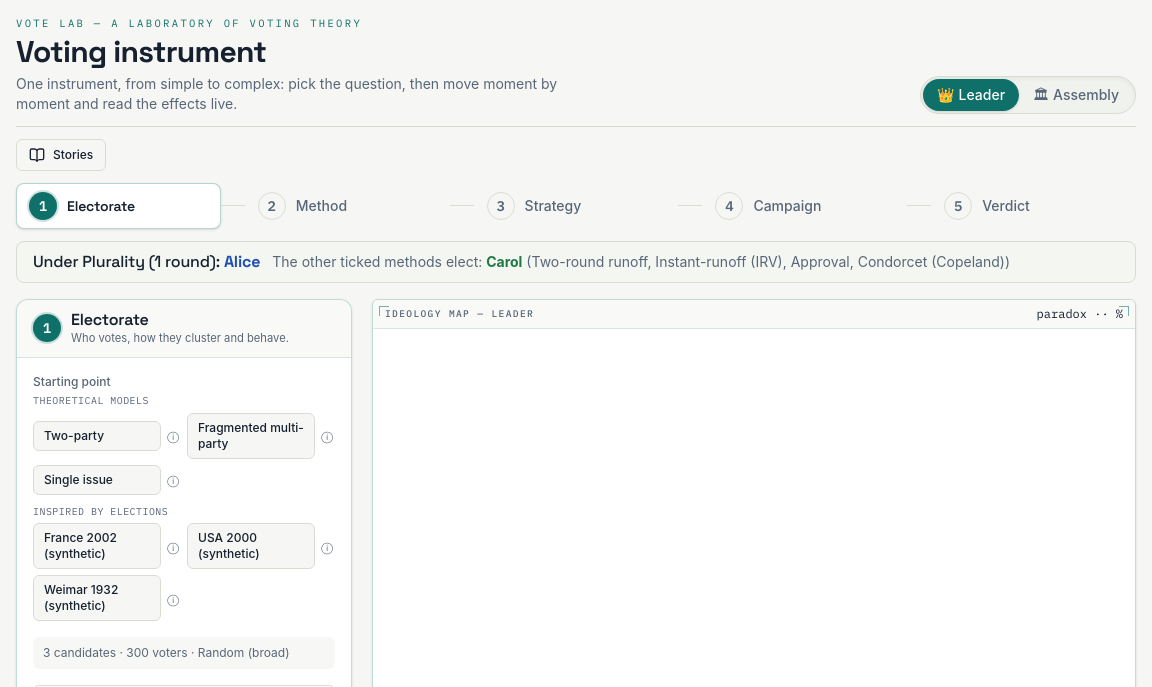
Scenario: PlaygroundPage (P0 shell) › the lens switch is present once a moment past Électorat is active, with no heavy overlay mounted
This screenshot has width=1152, height=687.
Click the radio button with test id "moment-bilan".
click(1034, 206)  # box [931,183,1136,229]
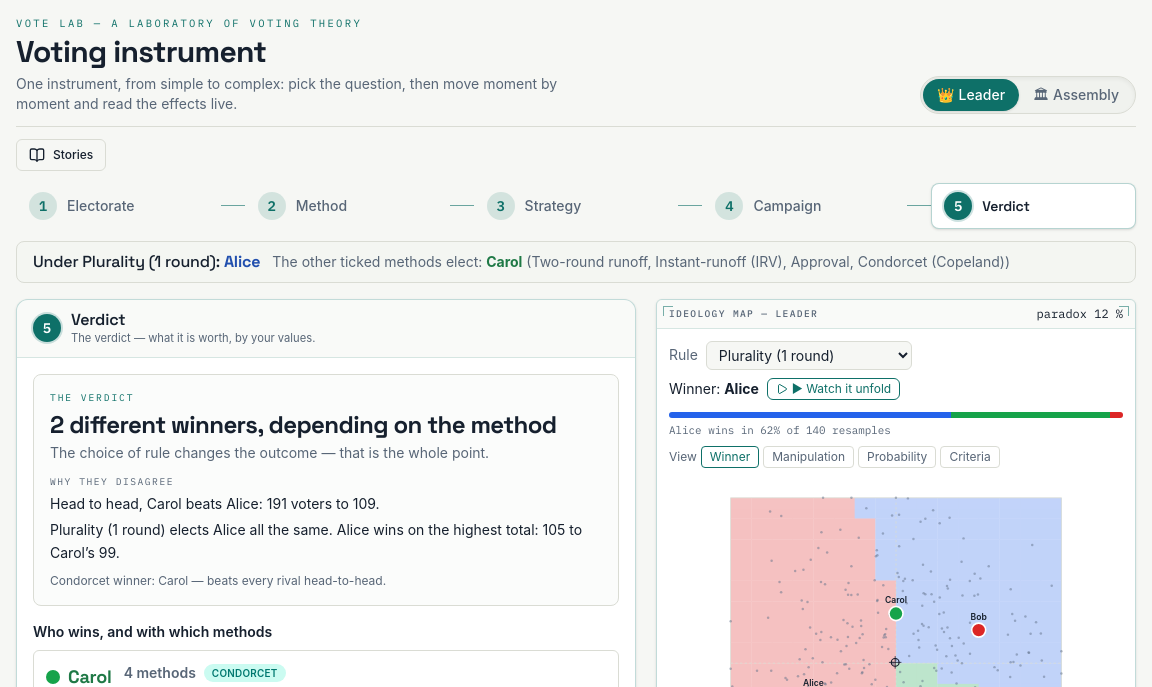
Expected: the element with test id "lens-switch" is shown, [669,446,1000,468]
